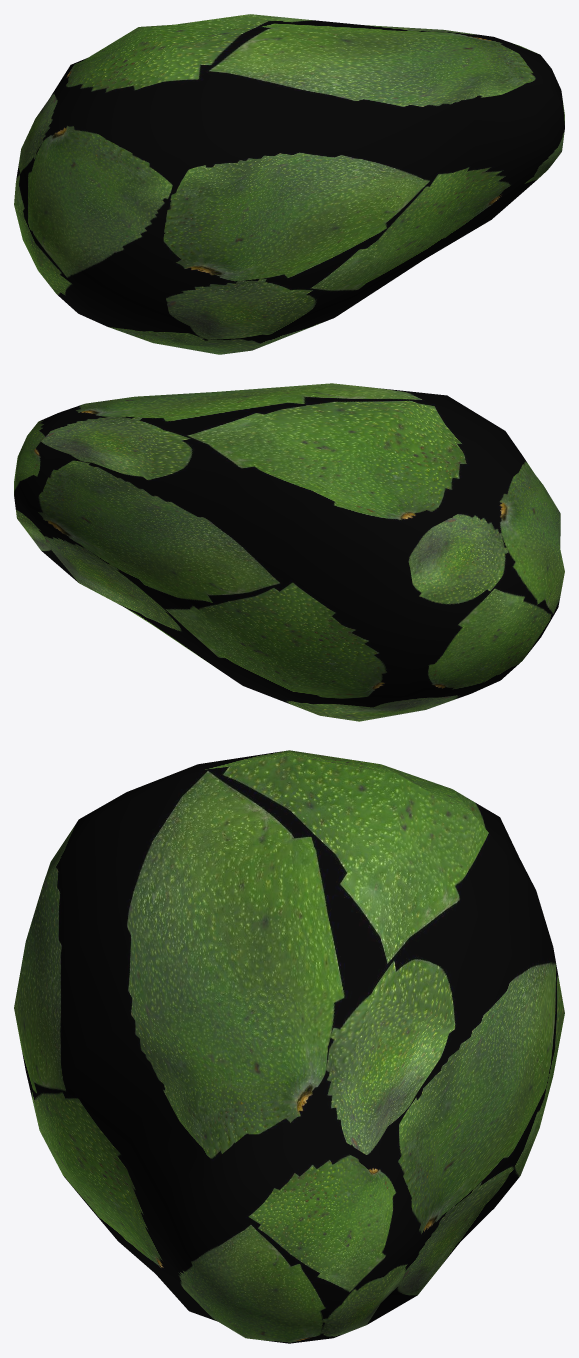
3 views of the same model, one above another, from view 1: azimuth 30°, elevation 25°; view 2: azimuth 150°, elevation 25°; view 3: azimuth 270°, elevation 25° (orthographic). The views are drawn at different scales.
Bounding box in the file's own units: 1 × 0.5394 × 0.5875.
